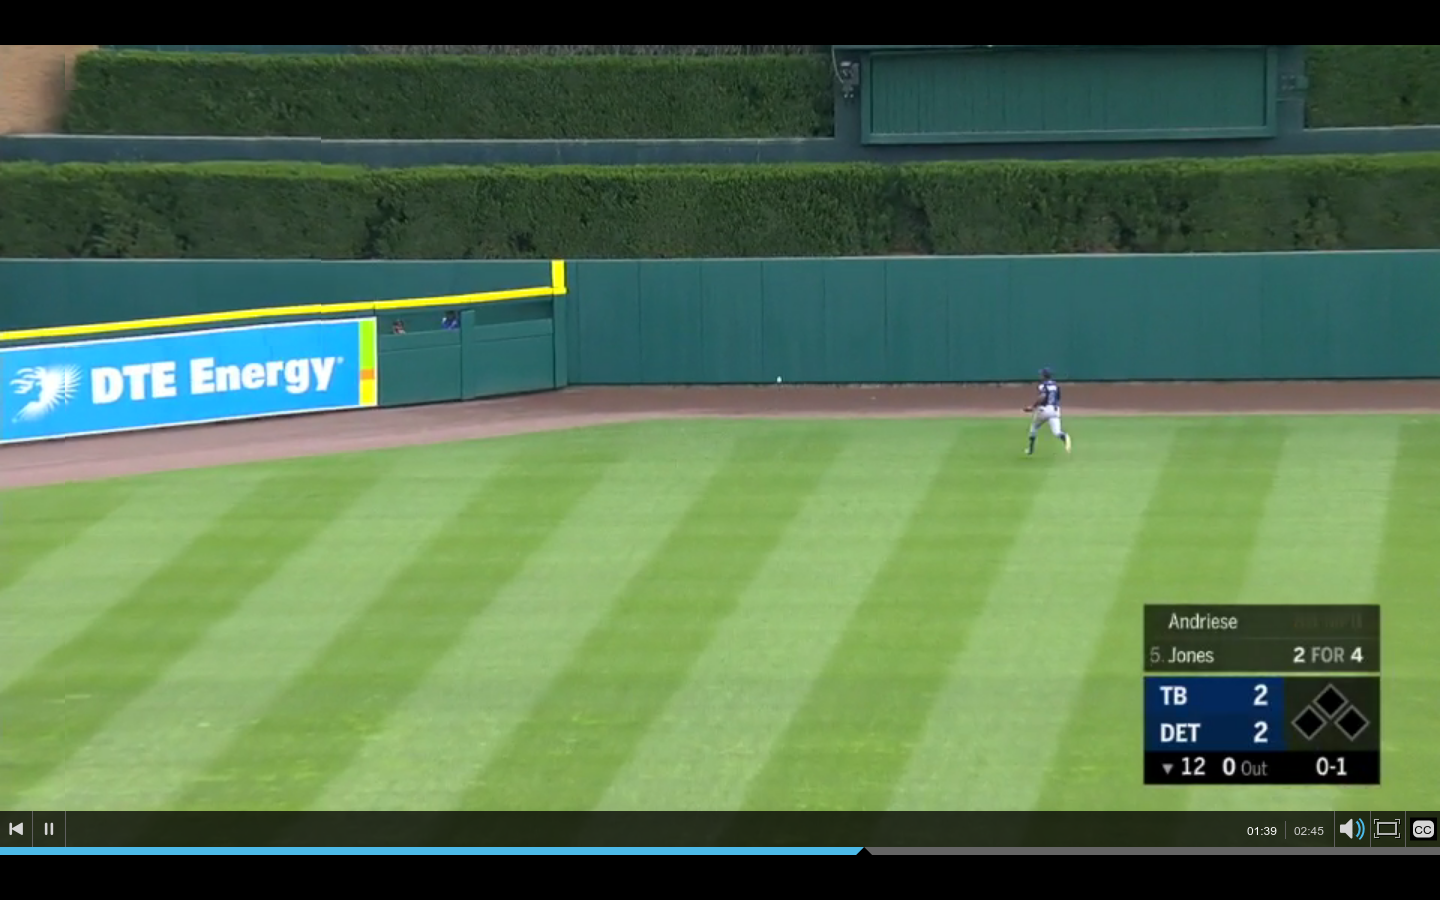baseball: (773, 371, 784, 391)
baseball player: (1024, 365, 1079, 463)
